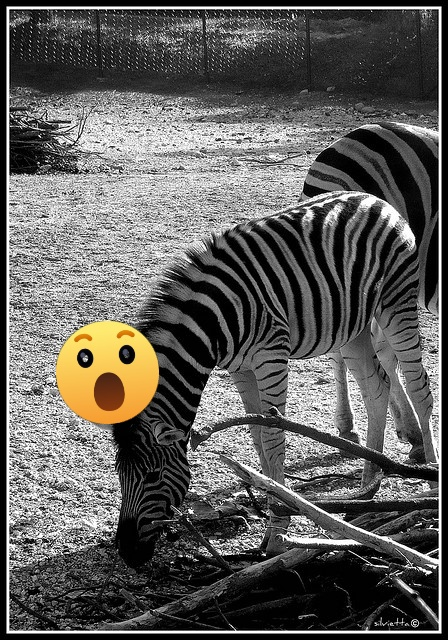wow: (56, 321, 159, 424)
